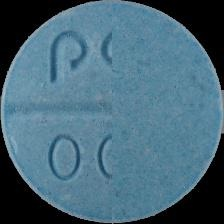68151-1980: (0, 0, 224, 224)
